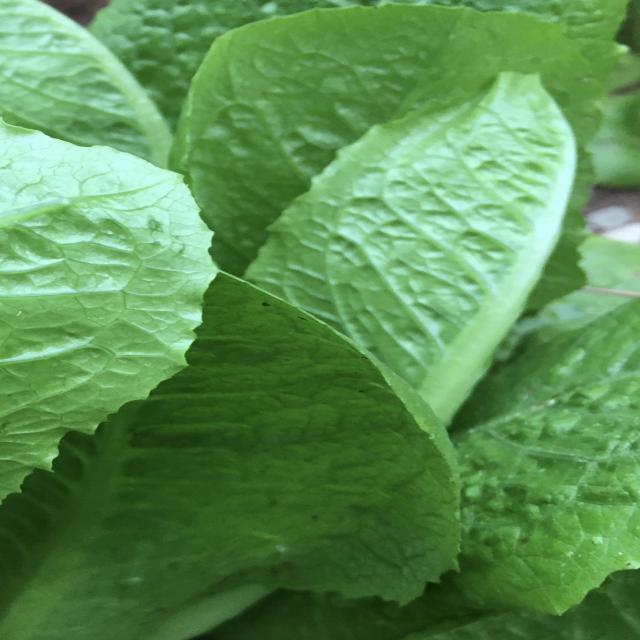Healthy Lettuce: (4, 3, 634, 634), (4, 269, 466, 636), (243, 69, 580, 426)
